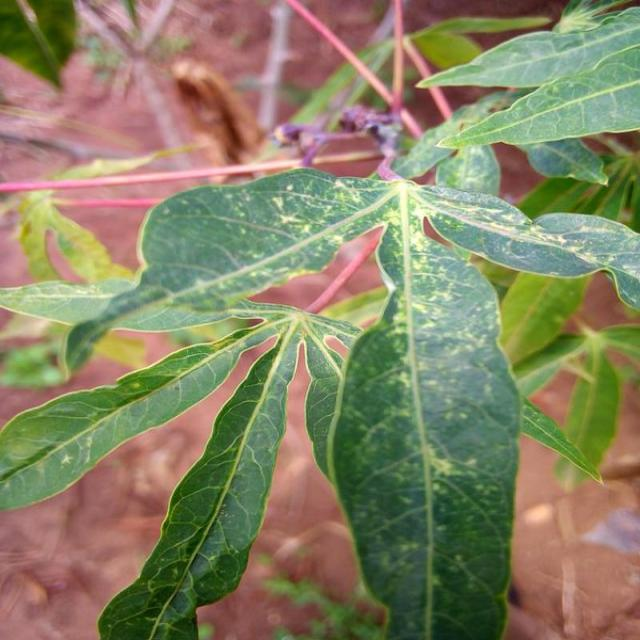cassava leaf: (326, 195, 524, 638), (97, 319, 303, 638)
